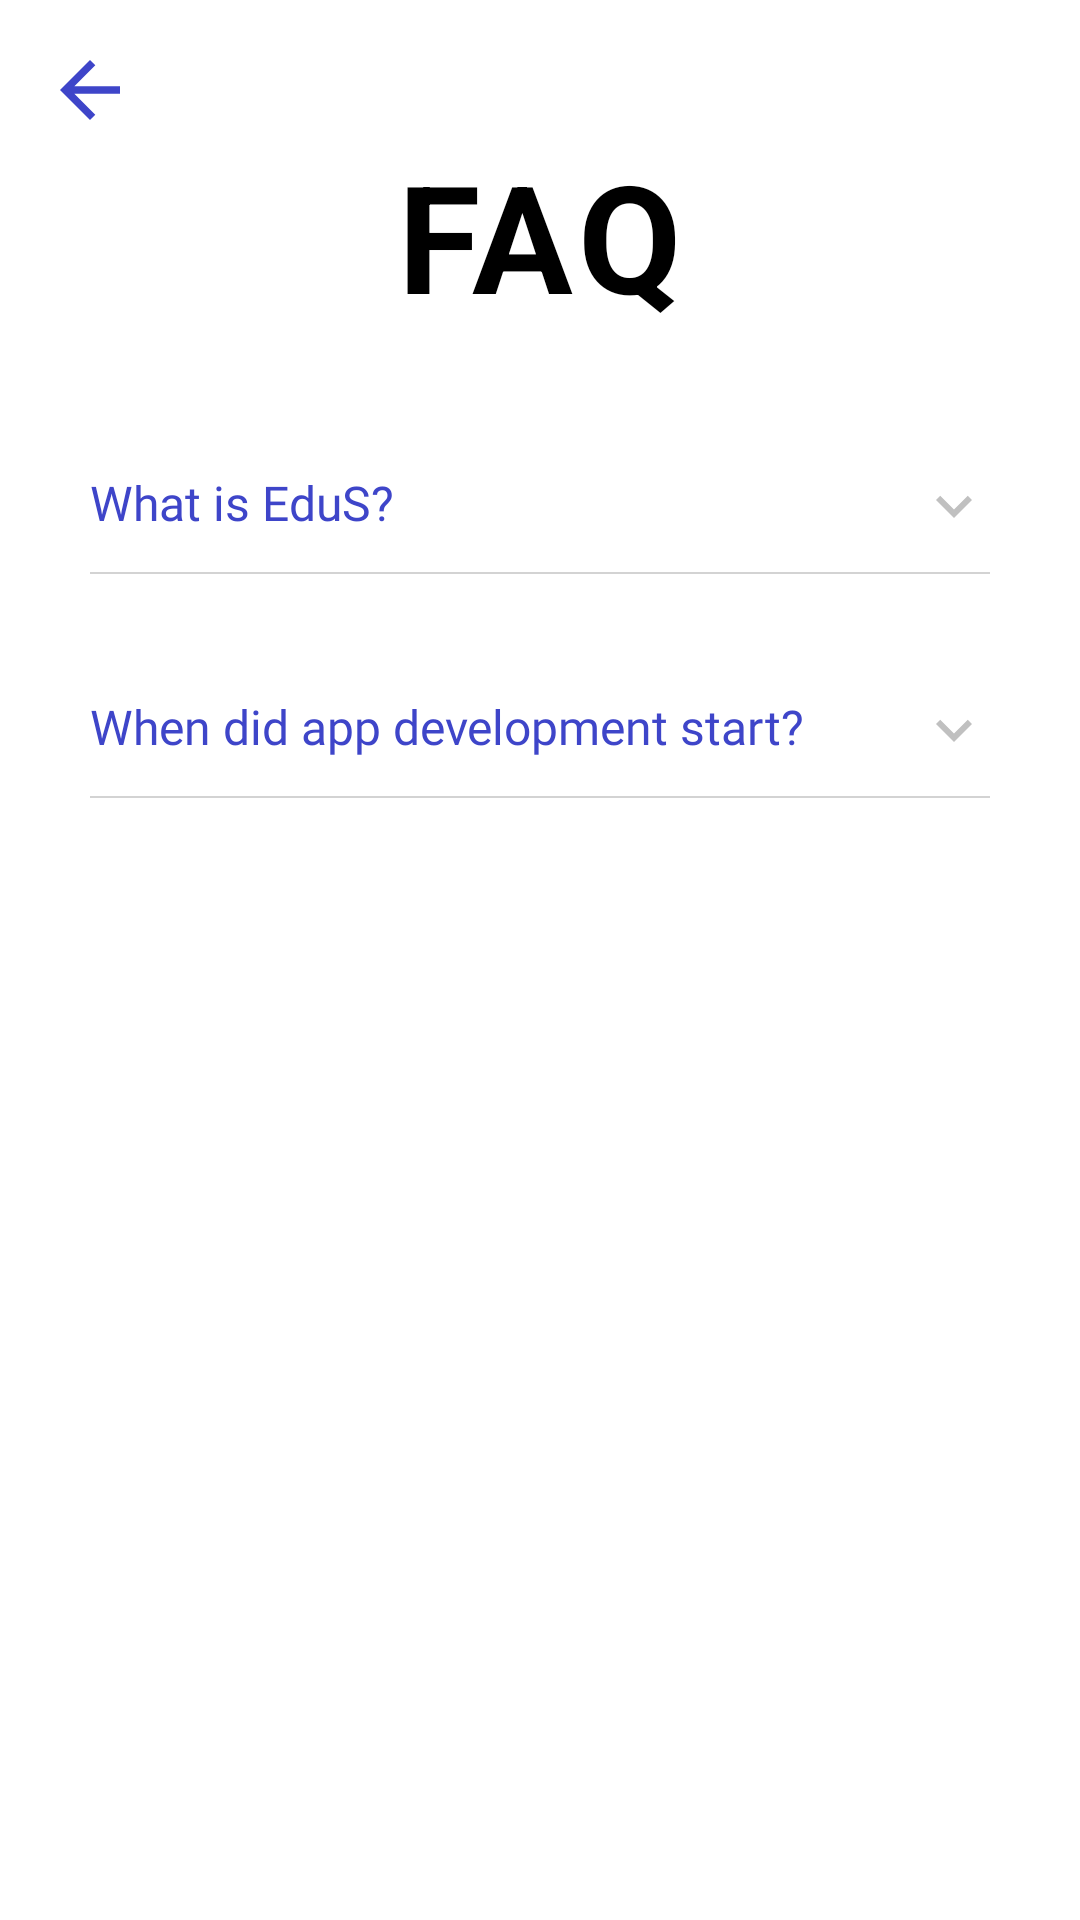

Locate icon controls on the screen. Image size 1080x1920, boxes as (x1, y1, x2, y2).
back android: (60, 60, 120, 120)
expand more: (936, 496, 972, 518), (936, 720, 972, 742)
